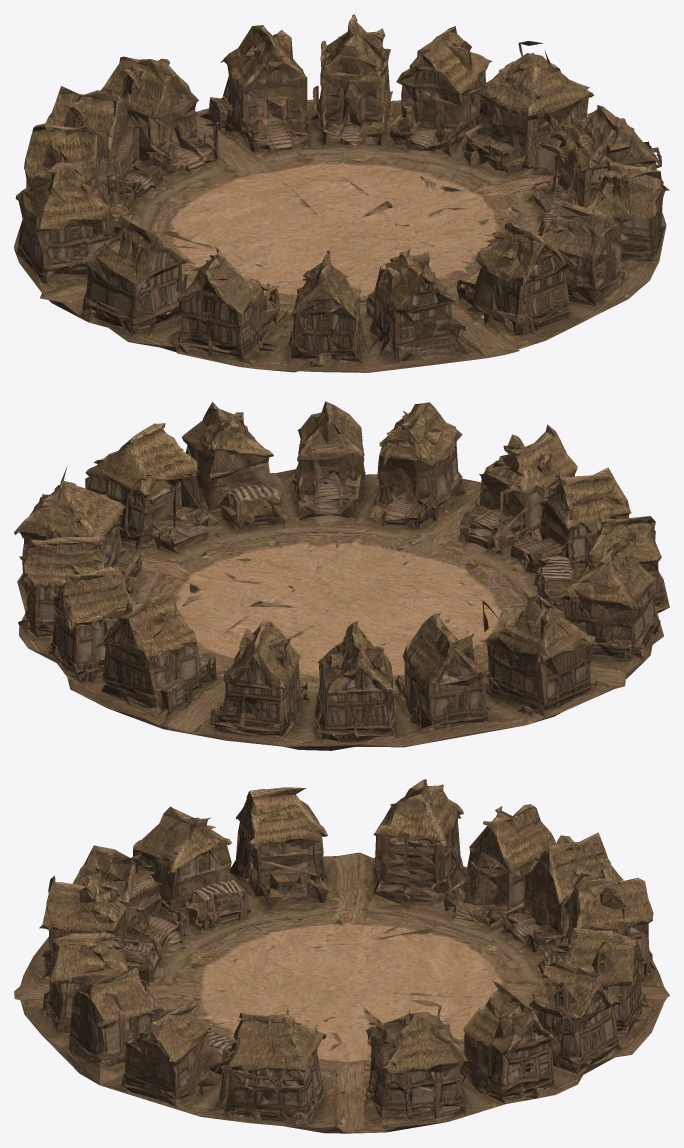
The model's file is ring_city.glb.
3 renders of one model, top to bottom at view 1: azimuth 30°, elevation 25°; view 2: azimuth 150°, elevation 25°; view 3: azimuth 270°, elevation 25°, orthographic. The views are drawn at different scales.
Bounding box in the file's own units: 1.9 × 0.3579 × 1.88.
1 material, 1 textured.
